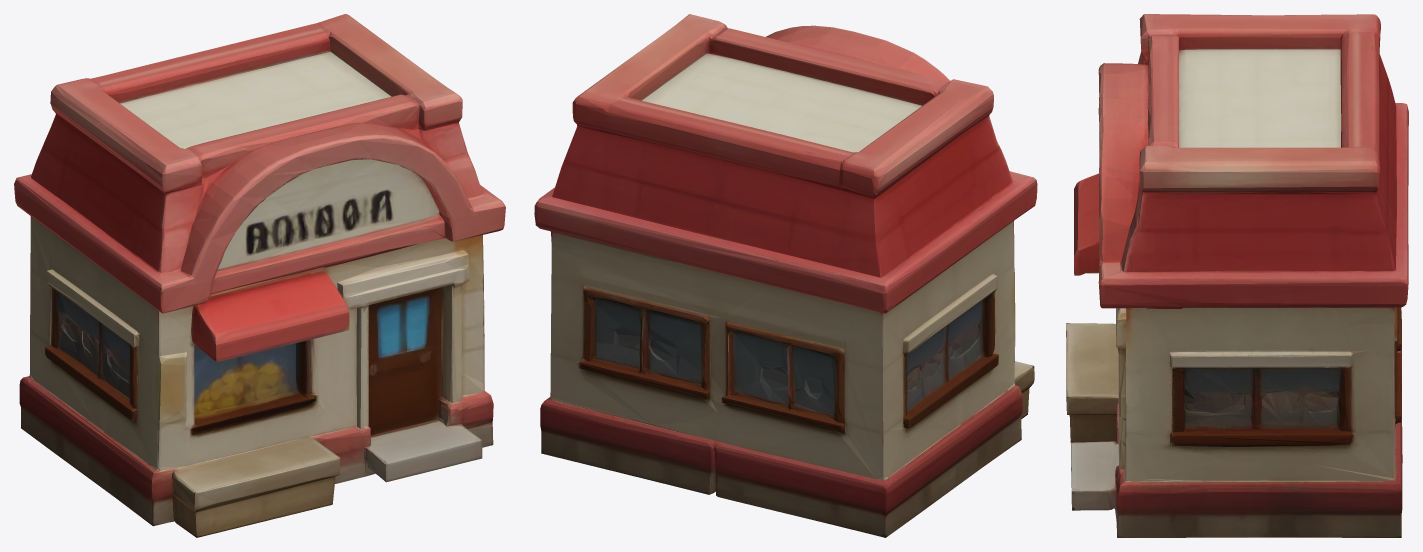
Rendered from red_roof_business.glb.
3 renders of one model, left to right at view 1: azimuth 30°, elevation 25°; view 2: azimuth 150°, elevation 25°; view 3: azimuth 270°, elevation 25°, orthographic. The views are drawn at different scales.
Parts seen in each view (by area): view 1: geometry_0; view 2: geometry_0; view 3: geometry_0.
Boxes of the visible parts, x1,y1,x2,y2 form: geometry_0: (14,14,505,537); geometry_0: (534,14,1037,537); geometry_0: (1066,14,1408,537).
Bounding box in the file's own units: 0.4937 × 0.4778 × 0.4041.
Materials: 1 (1 with a texture image).
